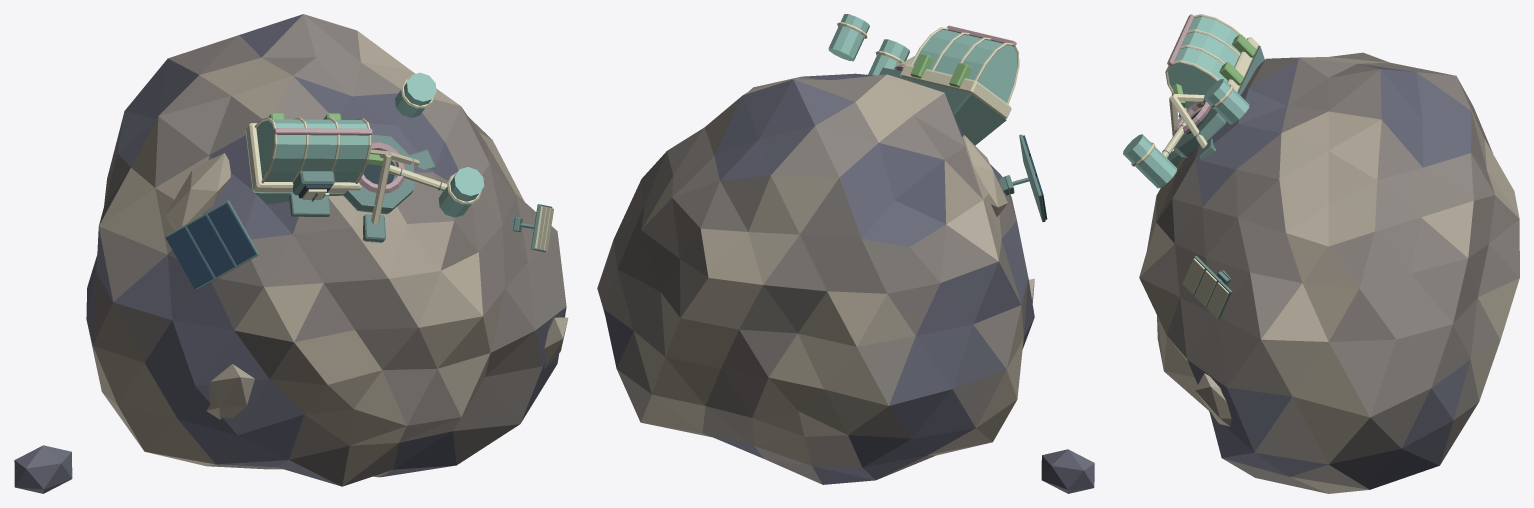
File: asteroids.glb
3 renders of one model, left to right at view 1: azimuth 30°, elevation 25°; view 2: azimuth 150°, elevation 25°; view 3: azimuth 270°, elevation 25°, orthographic. The views are drawn at different scales.
Visible parts, largest first — view 1: S5_asteroids • modeled surfaces; view 2: S5_asteroids • modeled surfaces; view 3: S5_asteroids • modeled surfaces.
Part boxes in pixels (<box>): S5_asteroids • modeled surfaces: <box>14,14,568,493</box>; S5_asteroids • modeled surfaces: <box>597,14,1094,493</box>; S5_asteroids • modeled surfaces: <box>1123,14,1519,493</box>.
Bounding box in the file's own units: 1.9 × 1.5 × 1.4.
